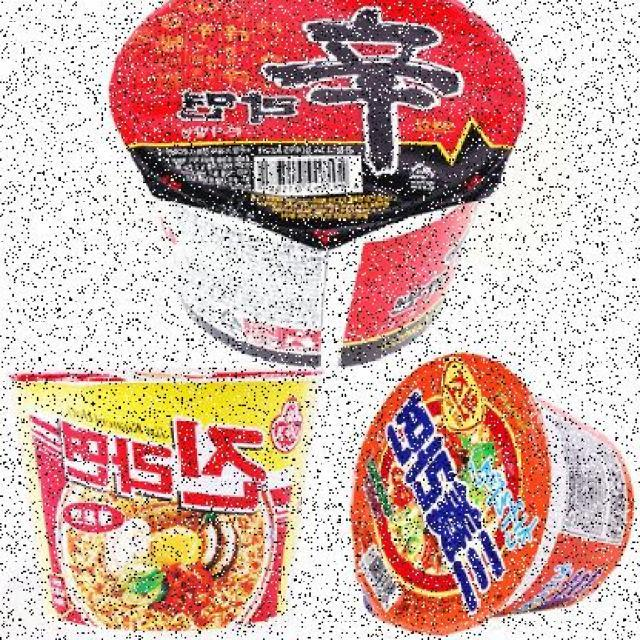Miscellaneous: (106, 0, 532, 369), (0, 355, 328, 640), (335, 353, 640, 636)
